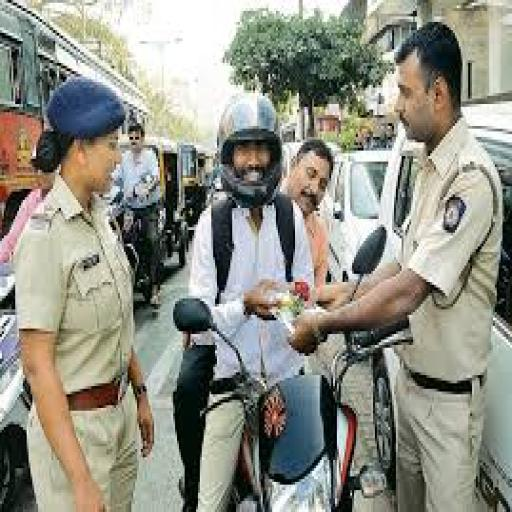helmet: (213, 88, 284, 205)
overloading: (10, 19, 502, 504)
